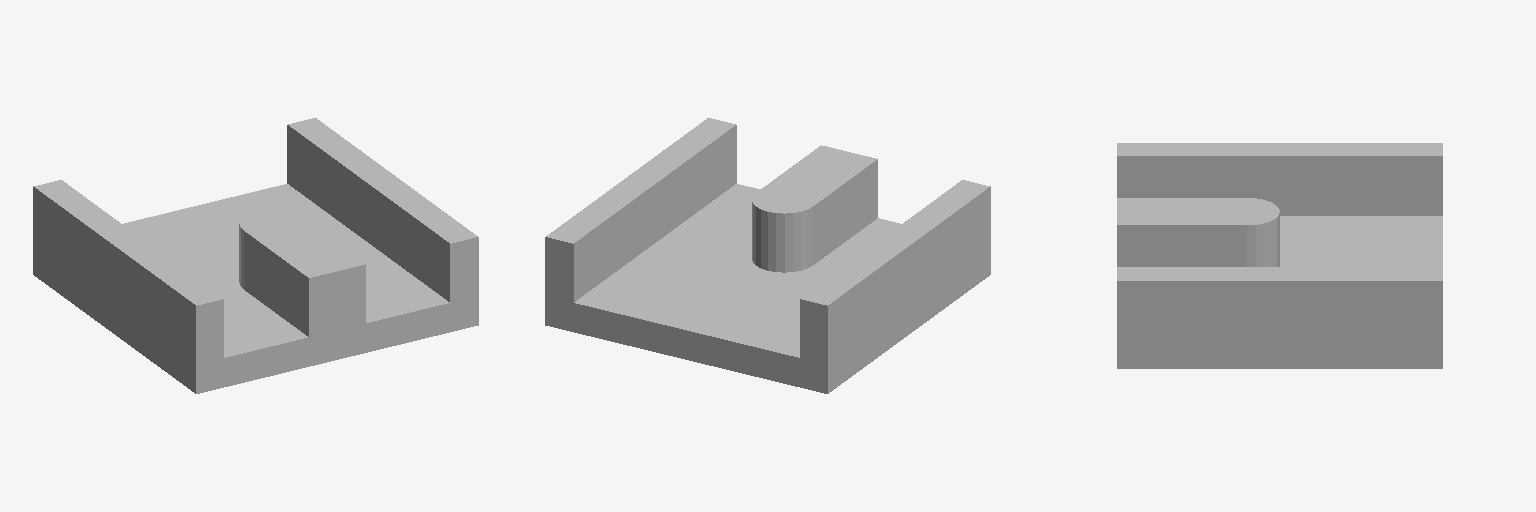
The model's file is Split.obj.
3 views of the same model, side by side, from view 1: azimuth 30°, elevation 25°; view 2: azimuth 150°, elevation 25°; view 3: azimuth 270°, elevation 25° (orthographic).
Parts seen in each view (by area): view 1: Split; view 2: Split; view 3: Split.
Boxes of the visible parts, <box> form: Split: <box>33,118,478,393</box>; Split: <box>545,118,990,393</box>; Split: <box>1117,143,1442,368</box>.
Size of the model in its own units: 2 by 0.6 by 2.